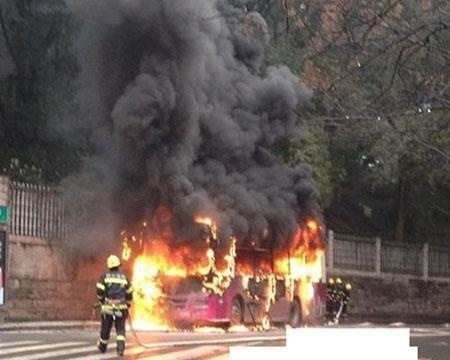fire: (119, 214, 324, 337)
